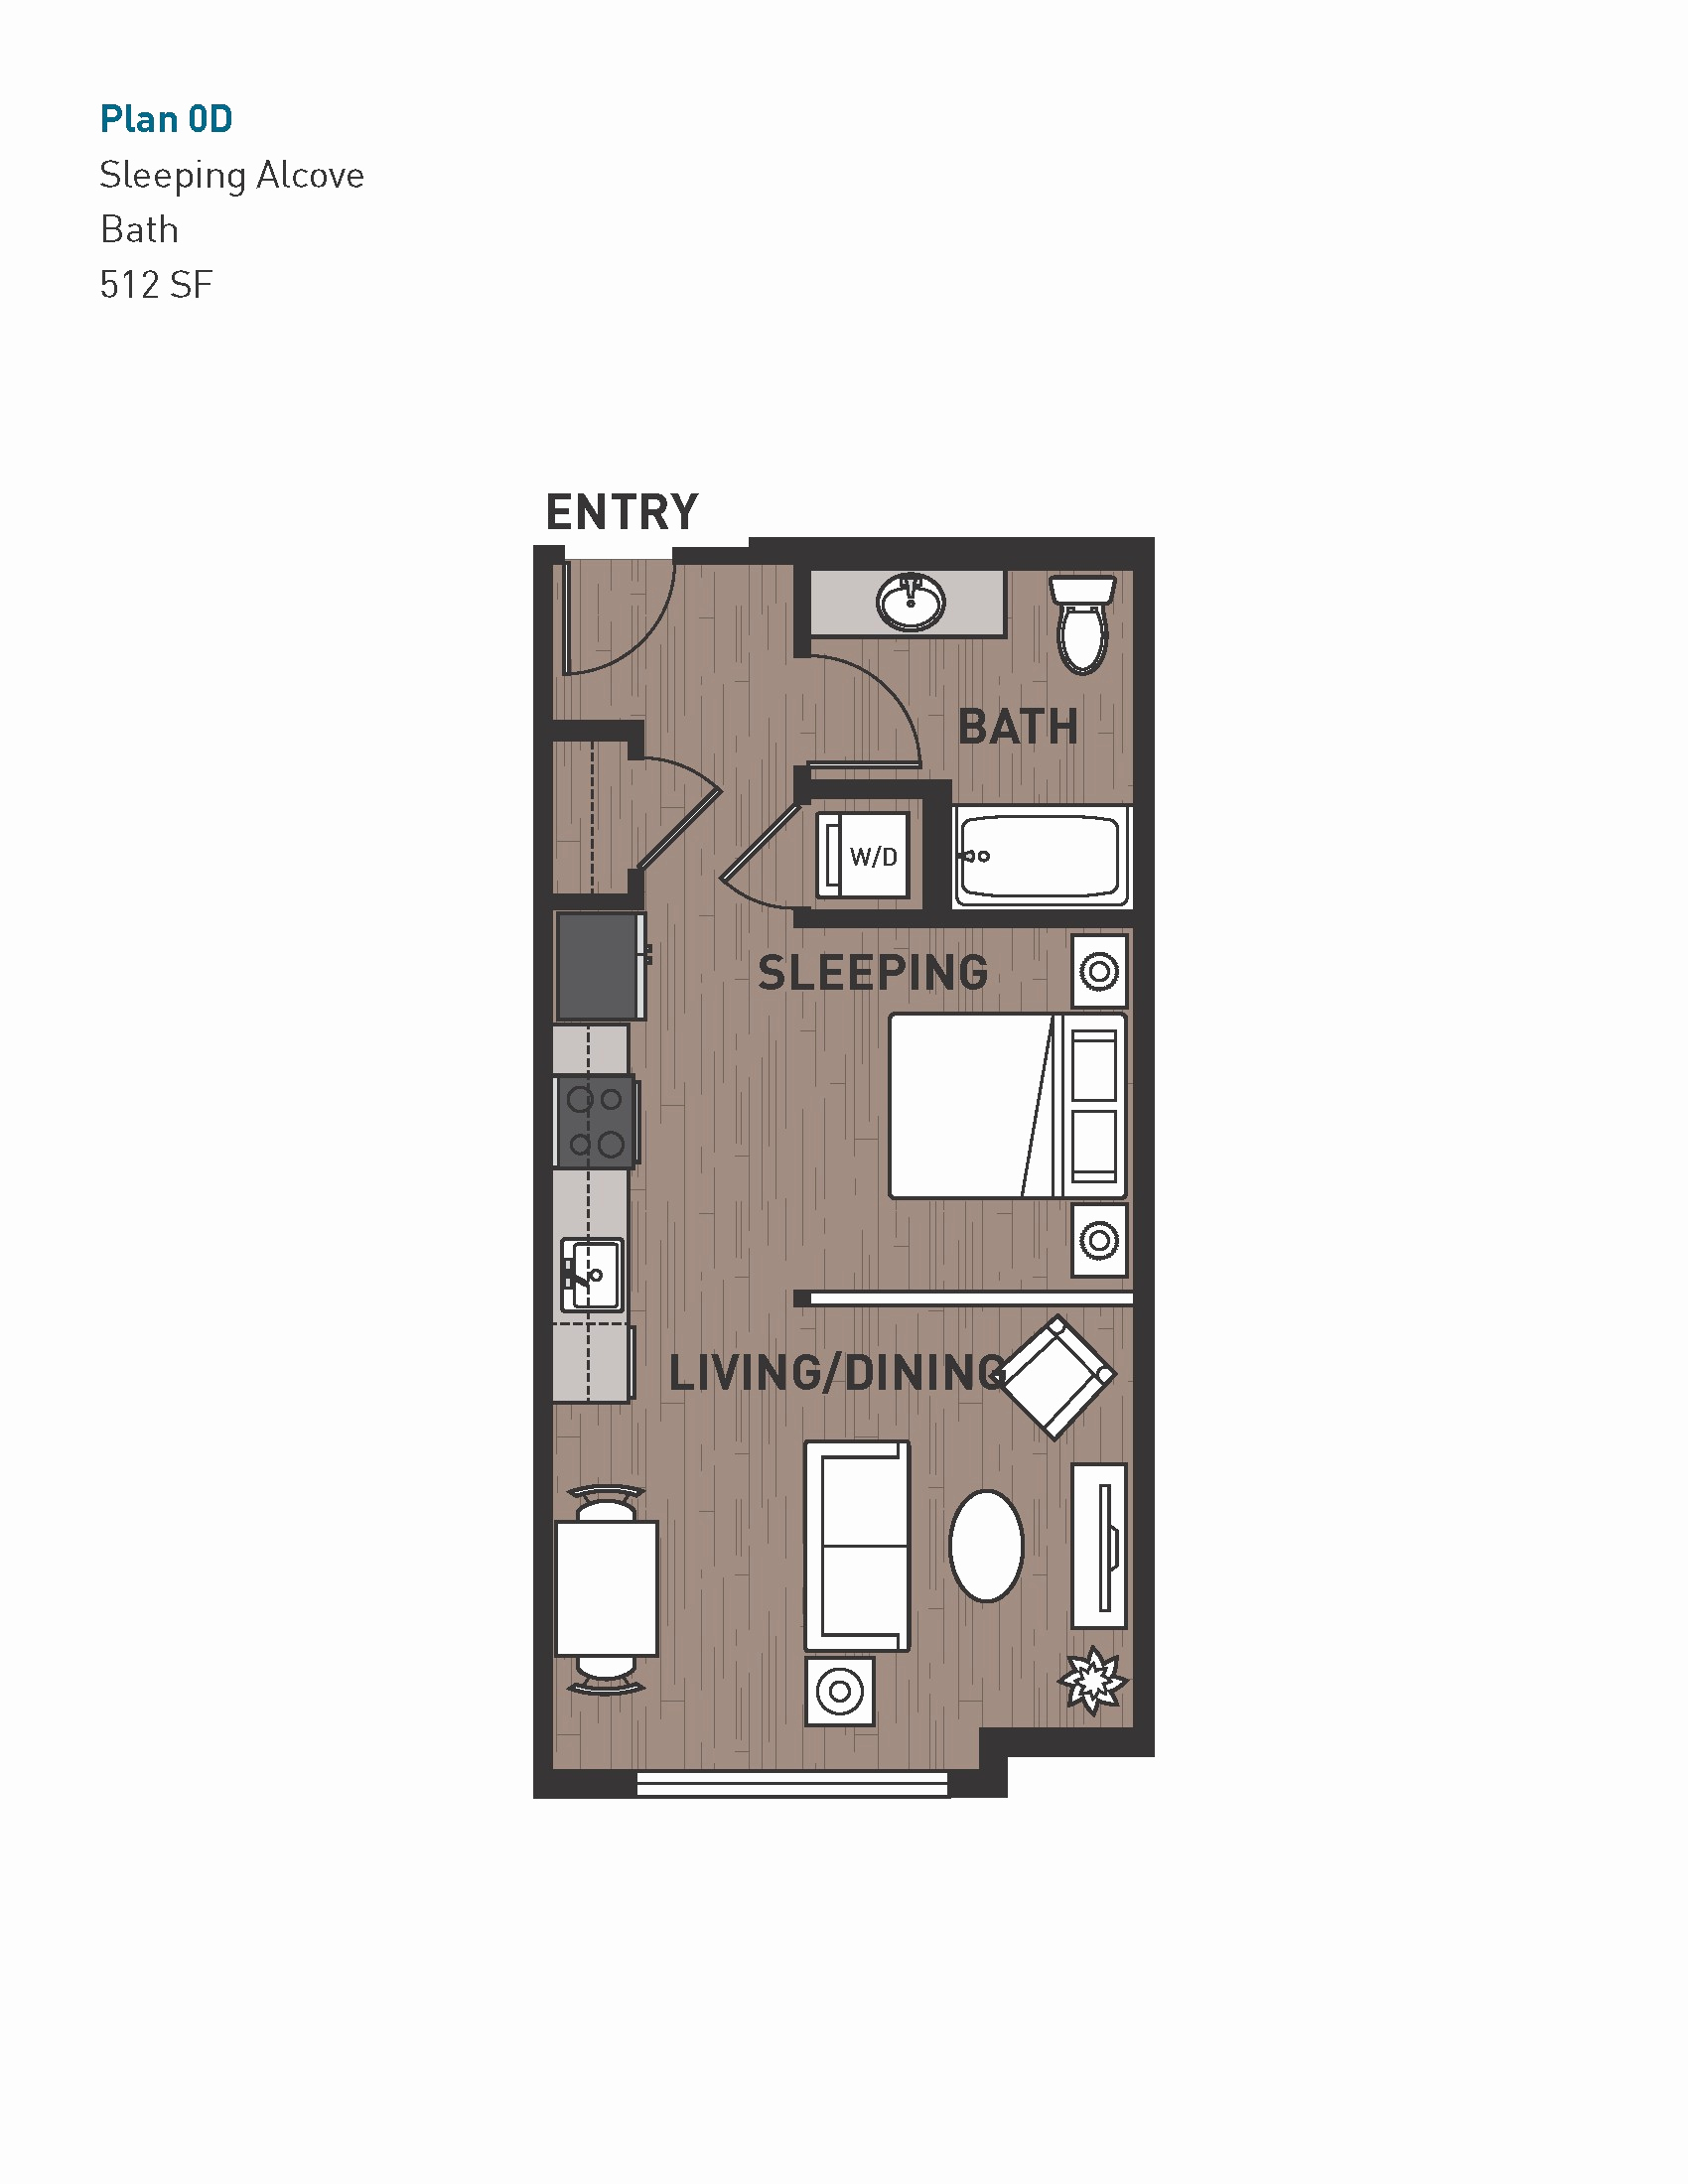door: (559, 565, 683, 684), (824, 651, 929, 771), (638, 746, 725, 863), (715, 805, 801, 911)
